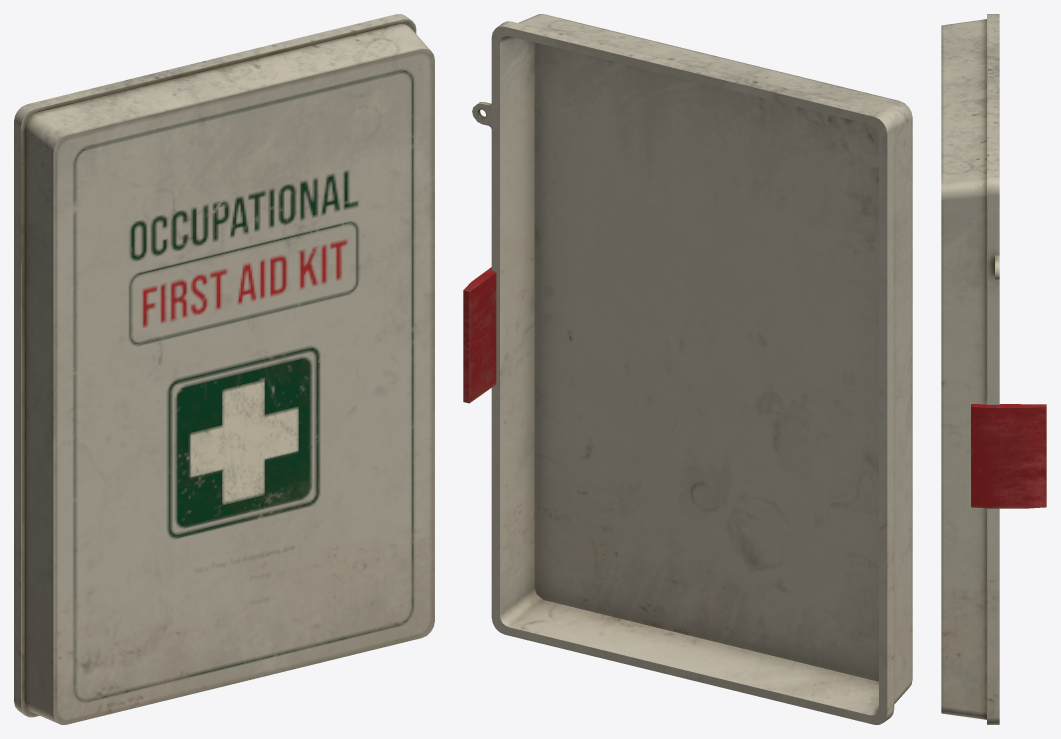
The model's file is MedicalBoxCover_01a_snaps011.fbx.
3 renders of one model, left to right at view 1: azimuth 30°, elevation 25°; view 2: azimuth 150°, elevation 25°; view 3: azimuth 270°, elevation 25°, orthographic. The views are drawn at different scales.
Visible parts, largest first — view 1: MedicalBoxCover_01a_snaps011_LOD0; view 2: MedicalBoxCover_01a_snaps011_LOD0; view 3: MedicalBoxCover_01a_snaps011_LOD0.
Boxes of the visible parts, x1,y1,x2,y2 form: MedicalBoxCover_01a_snaps011_LOD0: (14,14,434,724); MedicalBoxCover_01a_snaps011_LOD0: (463,14,912,724); MedicalBoxCover_01a_snaps011_LOD0: (941,14,1046,724).
Size of what is drawn, in the model's own units: 32.92 by 46.07 by 8.05.
